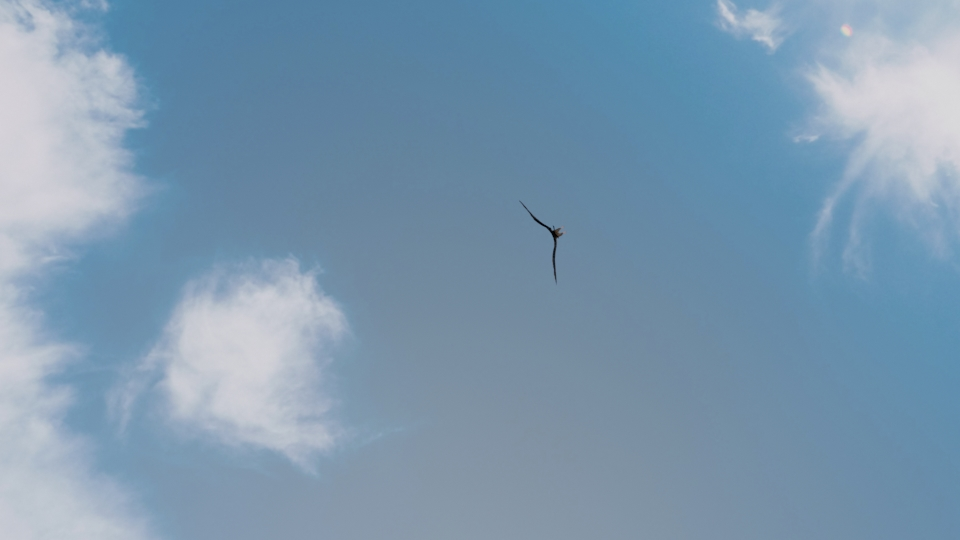bird: (516, 203, 566, 280)
